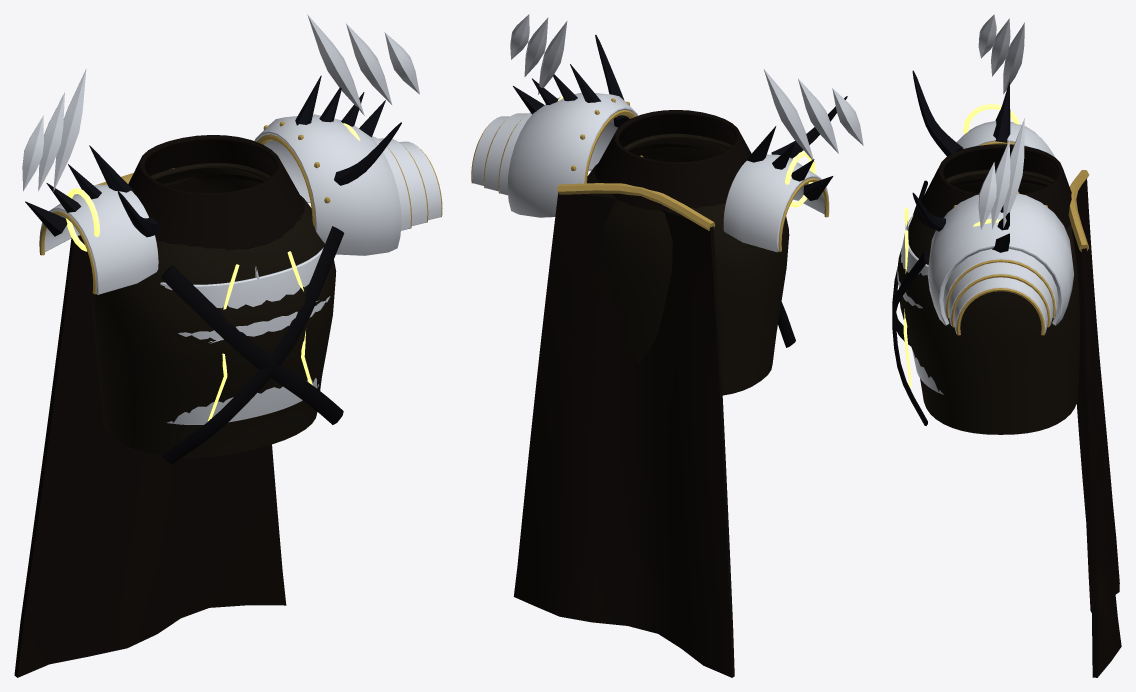
The model's file is esc_null_reaper_armor.glb.
The picture shows the model from 3 angles, left to right: view 1: azimuth 30°, elevation 25°; view 2: azimuth 150°, elevation 25°; view 3: azimuth 270°, elevation 25°; orthographic projection. The views are drawn at different scales.
Visible parts, largest first — view 1: esc_null_reaper_armor, AT_upper_arm_L, AT_upper_arm_R; view 2: esc_null_reaper_armor, AT_upper_arm_L, AT_upper_arm_R; view 3: esc_null_reaper_armor, AT_upper_arm_L, AT_upper_arm_R.
Part boxes in pixels (bbox=[...]): esc_null_reaper_armor: bbox=[14, 14, 419, 677]; AT_upper_arm_L: bbox=[254, 75, 442, 255]; AT_upper_arm_R: bbox=[25, 145, 159, 294]; esc_null_reaper_armor: bbox=[510, 14, 863, 677]; AT_upper_arm_L: bbox=[471, 35, 643, 217]; AT_upper_arm_R: bbox=[723, 96, 847, 252]; esc_null_reaper_armor: bbox=[892, 14, 1121, 677]; AT_upper_arm_L: bbox=[912, 191, 1074, 335]; AT_upper_arm_R: bbox=[912, 70, 1054, 156].
Size of the model in its own units: 0.9469 by 1.43 by 0.5229.
